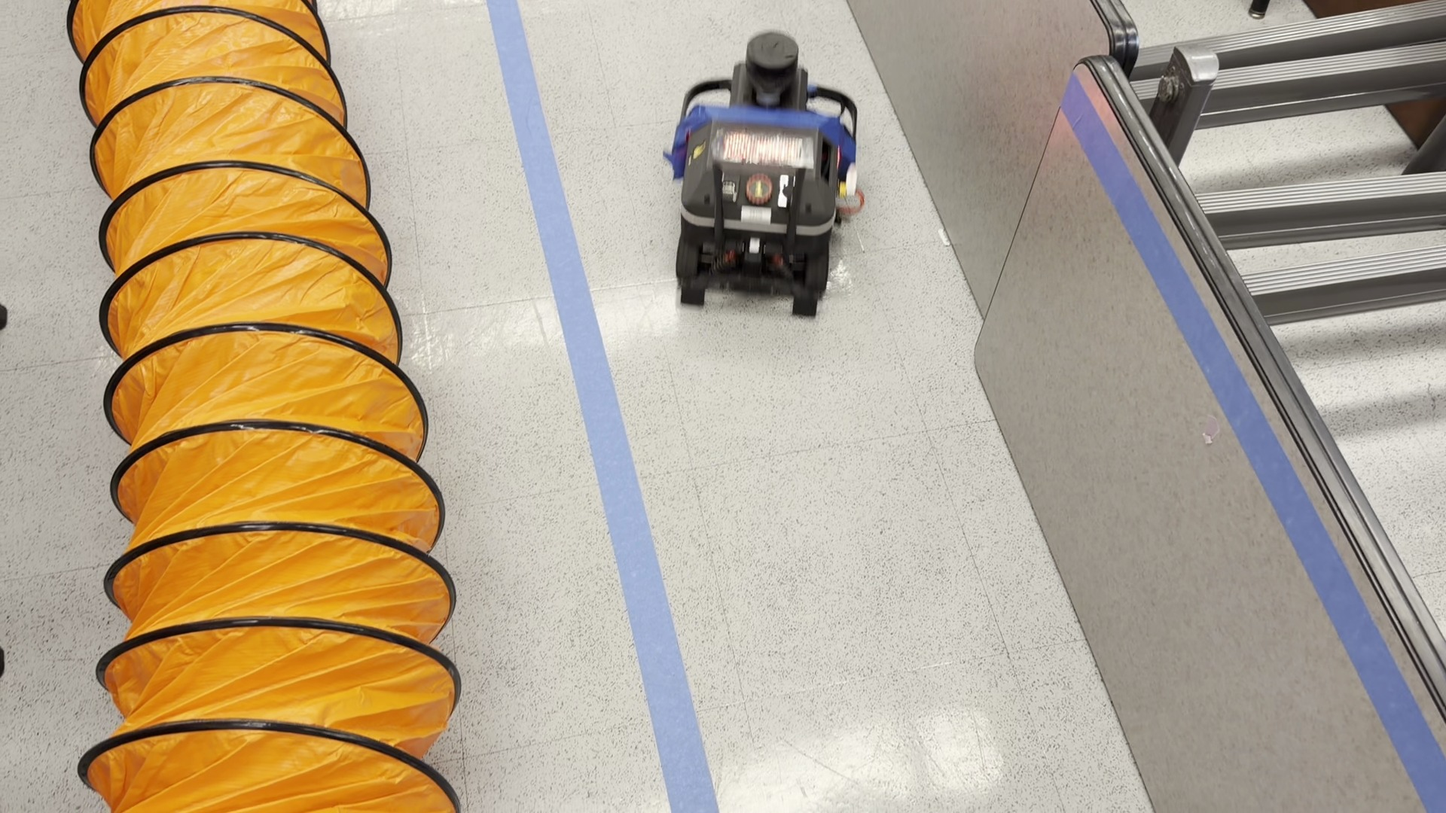racecar: (663, 34, 864, 317)
